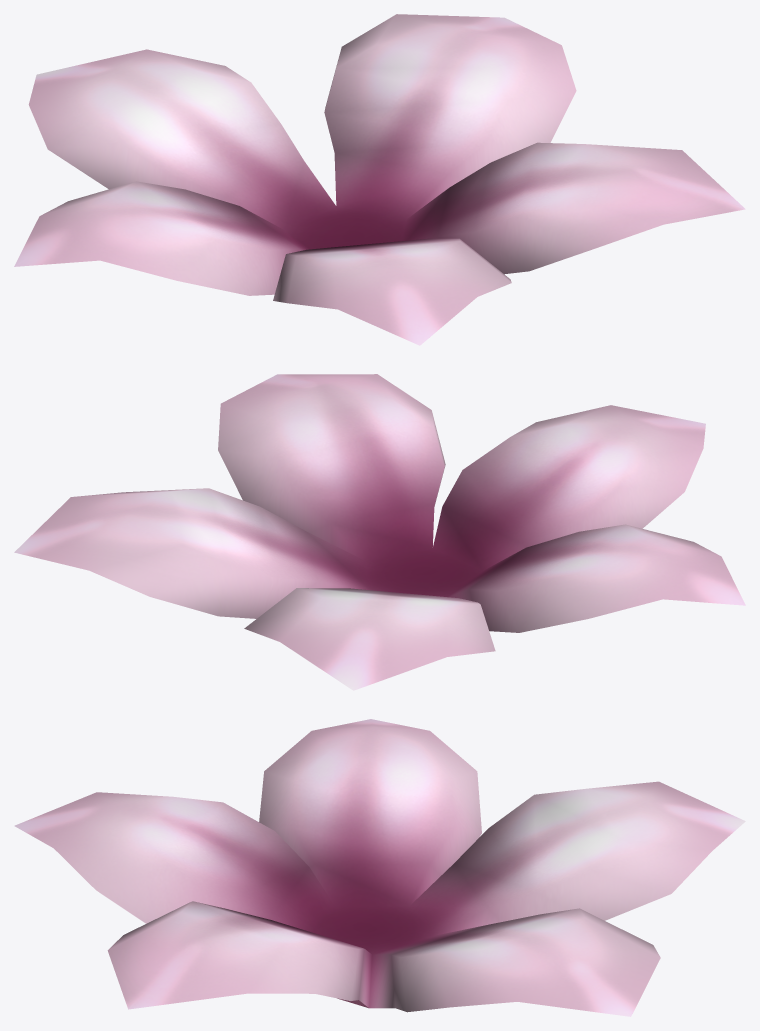
The model's file is lotus1.fbx.
The picture shows the model from 3 angles, top to bottom: view 1: azimuth 30°, elevation 25°; view 2: azimuth 150°, elevation 25°; view 3: azimuth 270°, elevation 25°; orthographic projection. The views are drawn at different scales.
Visible parts, largest first — view 1: lotus1; view 2: lotus1; view 3: lotus1.
Part boxes in pixels (x1=…): lotus1: x1=14, y1=14, x2=745, y2=345; lotus1: x1=14, y1=374, x2=745, y2=690; lotus1: x1=14, y1=719, x2=745, y2=1016.
Size of the model in its own units: 4.8 by 0.8953 by 4.99.
Materials: 1 (1 with a texture image).
